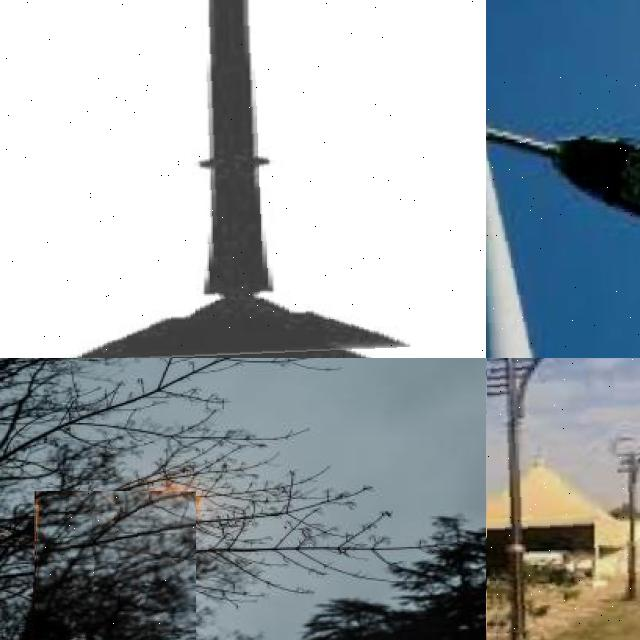street light: (0, 0, 486, 358), (486, 75, 640, 358), (487, 358, 640, 640), (34, 491, 195, 640), (604, 451, 640, 605)
